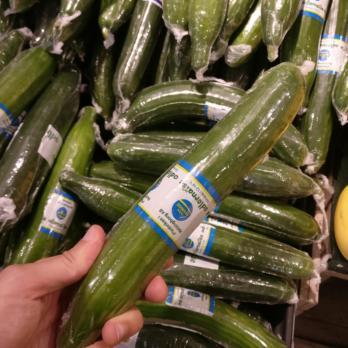Cucumber: (53, 60, 304, 348), (0, 1, 348, 173)
